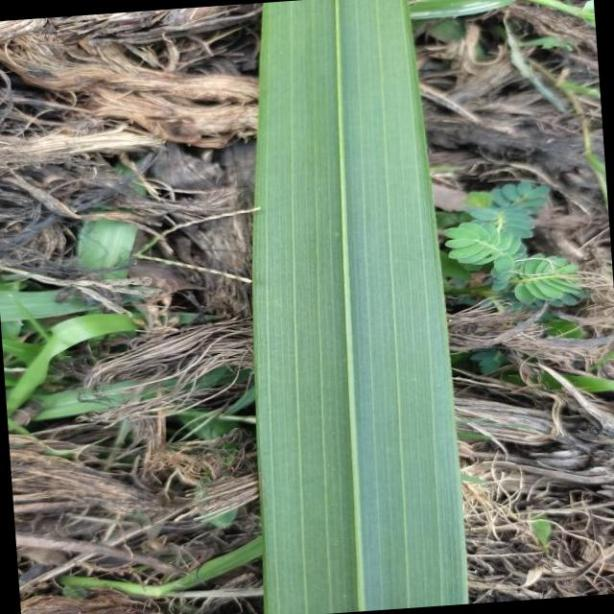Healthy: (238, 0, 470, 610)
